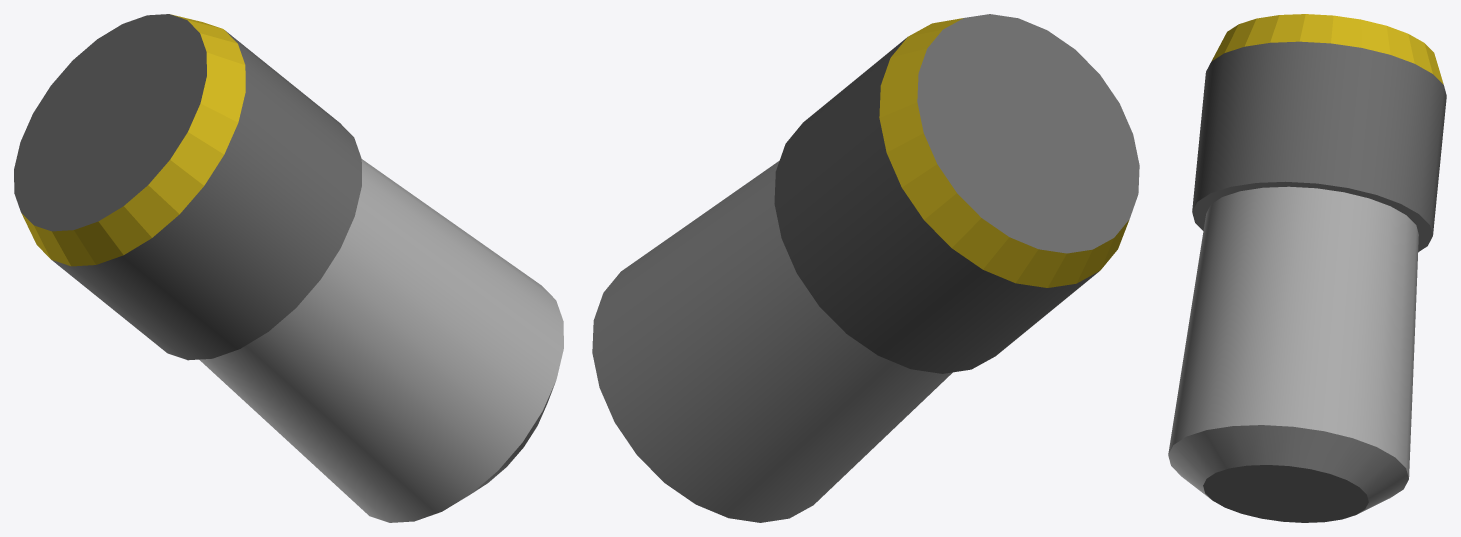
The model's file is EnergyCell.fbx.
3 renders of one model, left to right at view 1: azimuth 30°, elevation 25°; view 2: azimuth 150°, elevation 25°; view 3: azimuth 270°, elevation 25°, orthographic. The views are drawn at different scales.
Visible parts, largest first — view 1: FusionCellBody1; view 2: FusionCellBody1; view 3: FusionCellBody1.
Boxes of the visible parts, box(x1,y1,x2,y2) form: FusionCellBody1: box(14, 14, 563, 522); FusionCellBody1: box(592, 14, 1139, 522); FusionCellBody1: box(1168, 14, 1446, 522).
Size of the model in its own units: 0.6655 by 0.6657 by 0.3913.
